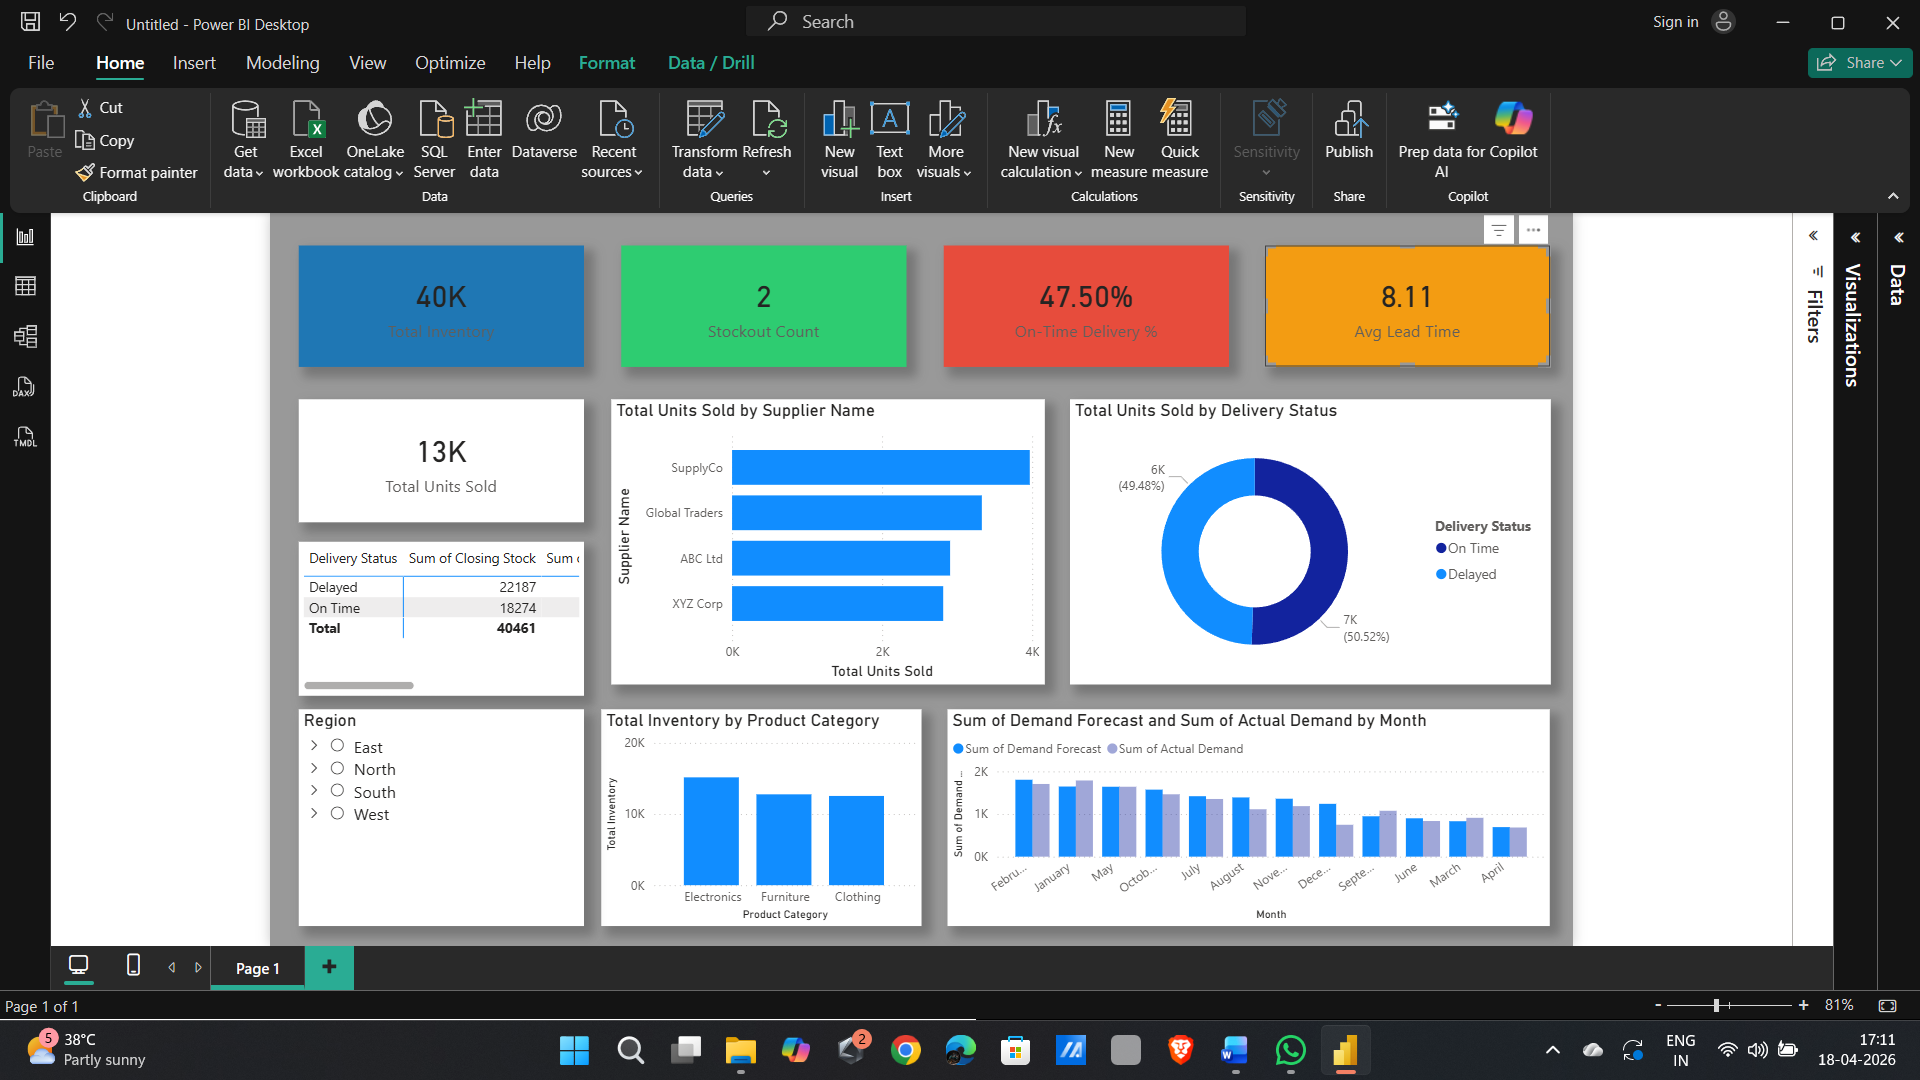

The dashboard page shown, as its layout file describes it:
{"tool":"powerbi","page":{"name":"Page 1","canvas":[1280,720],"ordinal":0},"visuals":[{"type":"card","fields":{"Values":["SupplyChainData.Total Inventory"]},"box":[28.8,31.6,279.9,119.4],"z":0},{"type":"card","fields":{"Values":["SupplyChainData.Total Units Sold"]},"box":[28.8,182.5,279.9,120.8],"z":1},{"type":"card","fields":{"Values":["SupplyChainData.Stockout Count"]},"box":[344.9,31.6,279.9,119.4],"z":2},{"type":"card","fields":{"Values":["SupplyChainData.On-Time Delivery %"]},"box":[661,31.6,279.9,119.4],"z":3},{"type":"card","fields":{"Values":["SupplyChainData.Avg Lead Time"]},"box":[977,31.6,279.9,119.4],"z":4},{"type":"columnChart","fields":{"Category":["SupplyChainData.Product Category"],"Y":["SupplyChainData.Total Inventory"]},"box":[325.2,487.1,314.2,212.7],"z":5},{"type":"barChart","fields":{"Category":["SupplyChainData.Supplier Name"],"Y":["SupplyChainData.Total Units Sold"]},"box":[334.8,182.5,425.4,279.9],"z":6},{"type":"donutChart","fields":{"Category":["SupplyChainData.Delivery Status"],"Y":["SupplyChainData.Total Units Sold"]},"box":[784.9,182.5,472,279.9],"z":7},{"type":"clusteredColumnChart","fields":{"Category":["SupplyChainData.Month"],"Y":["Sum(SupplyChainData.Demand Forecast)","Sum(SupplyChainData.Actual Demand)"]},"box":[665.5,487.1,591.4,212.7],"z":8},{"type":"pivotTable","fields":{"Values":["Sum(SupplyChainData.Closing Stock)","Sum(SupplyChainData.Reorder Level)","Sum(SupplyChainData.Lead Time (Days))"],"Rows":["SupplyChainData.Delivery Status"]},"box":[28.8,322.5,279.9,150.9],"z":9},{"type":"listSlicer","fields":{"Values":["SupplyChainData.Region","SupplyChainData.Supplier Name","SupplyChainData.Product Category","SupplyChainData.Warehouse Location","SupplyChainData.Month"]},"box":[28.8,487.1,279.9,212.7],"z":10}]}

Visuals, with their boxes on the page's 1280x720 design canvas (x1, y1, x2, y2). These are canvas units, not pixel positions in the 1920x1080 screenshot, which may show the page scaled, cropped or inside an application window:
card - SupplyChainData.Total Inventory: pyautogui.locateOnScreen(29, 32, 309, 151)
card - SupplyChainData.Total Units Sold: pyautogui.locateOnScreen(29, 182, 309, 303)
card - SupplyChainData.Stockout Count: pyautogui.locateOnScreen(345, 32, 625, 151)
card - SupplyChainData.On-Time Delivery %: pyautogui.locateOnScreen(661, 32, 941, 151)
card - SupplyChainData.Avg Lead Time: pyautogui.locateOnScreen(977, 32, 1257, 151)
columnChart - SupplyChainData.Product Category x SupplyChainData.Total Inventory: pyautogui.locateOnScreen(325, 487, 639, 700)
barChart - SupplyChainData.Supplier Name x SupplyChainData.Total Units Sold: pyautogui.locateOnScreen(335, 182, 760, 462)
donutChart - SupplyChainData.Delivery Status x SupplyChainData.Total Units Sold: pyautogui.locateOnScreen(785, 182, 1257, 462)
clusteredColumnChart - SupplyChainData.Month x Sum(SupplyChainData.Demand Forecast): pyautogui.locateOnScreen(666, 487, 1257, 700)
pivotTable - Sum(SupplyChainData.Closing Stock) x Sum(SupplyChainData.Reorder Level): pyautogui.locateOnScreen(29, 322, 309, 473)
listSlicer - SupplyChainData.Region x SupplyChainData.Supplier Name: pyautogui.locateOnScreen(29, 487, 309, 700)
